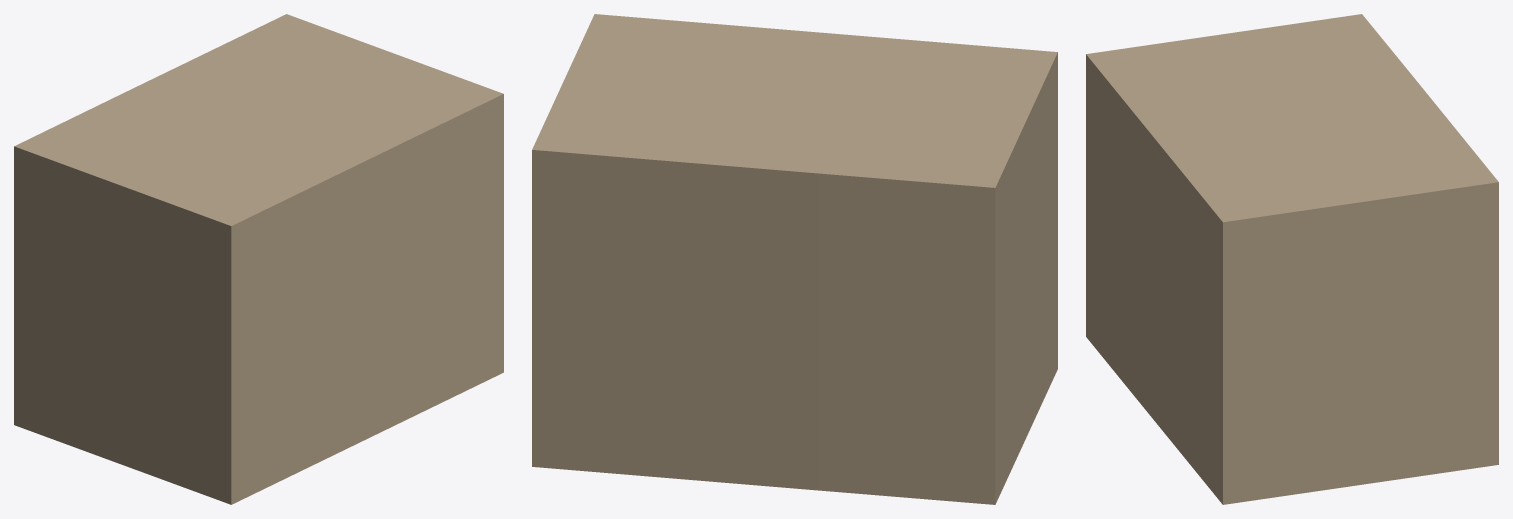
File: bld_108162329.dae
3 views of the same model, side by side, from view 1: azimuth 30°, elevation 25°; view 2: azimuth 150°, elevation 25°; view 3: azimuth 270°, elevation 25° (orthographic). The views are drawn at different scales.
Parts seen in each view (by area): view 1: bld_108162329; view 2: bld_108162329; view 3: bld_108162329.
Boxes of the visible parts, left/top/right/bottom form: bld_108162329: left=14, top=14, right=503, bottom=504; bld_108162329: left=532, top=14, right=1057, bottom=504; bld_108162329: left=1086, top=14, right=1498, bottom=504.
Size of the model in its own units: 12.65 by 10.59 by 8.
